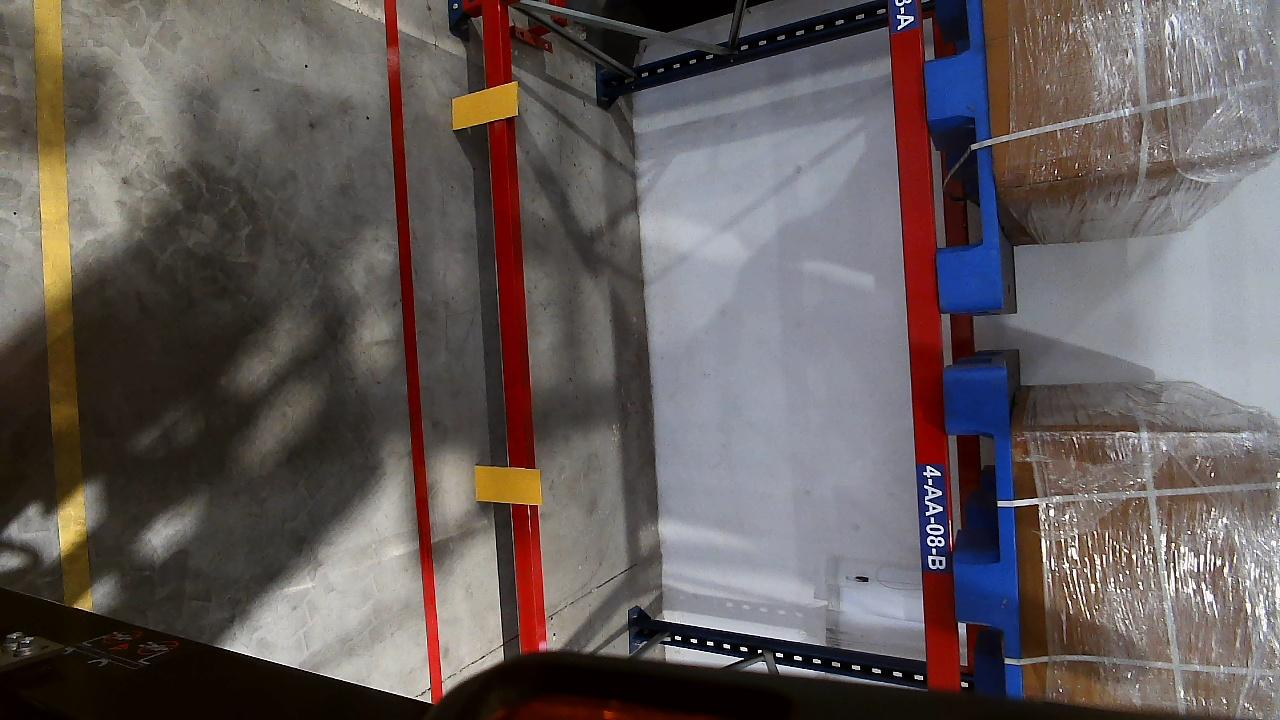h_rack: (471, 1, 554, 648), (888, 0, 954, 689)
orange_strip: (451, 82, 520, 128), (474, 466, 540, 505)
red_line: (369, 0, 449, 699)
small_pallet: (916, 0, 1008, 305), (942, 374, 1028, 690)
yellow_line: (29, 0, 106, 601)
